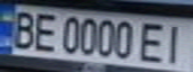0: (115, 18, 139, 61), (57, 13, 81, 55), (78, 15, 100, 57), (97, 16, 118, 58)
B: (6, 8, 39, 51)
E: (136, 19, 172, 64), (30, 10, 60, 53)
I: (160, 21, 193, 65)
